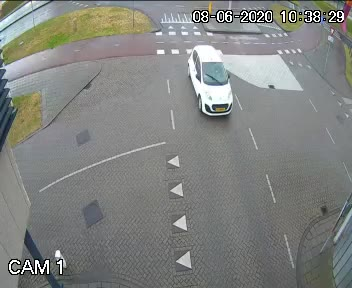car: (177, 40, 240, 117)
